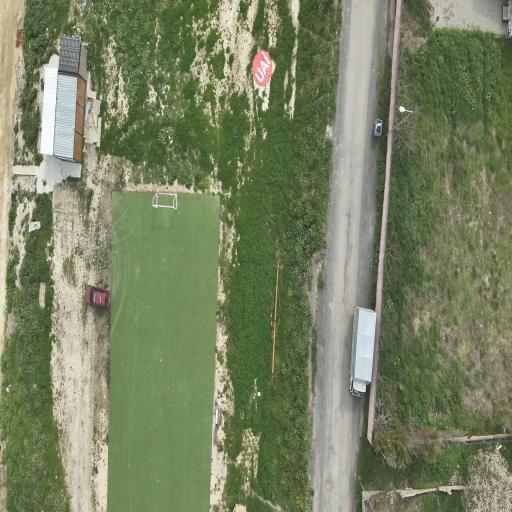car: (86, 285, 110, 309), (374, 119, 382, 136)
truck: (350, 307, 376, 396)
uai: (253, 50, 272, 86)
